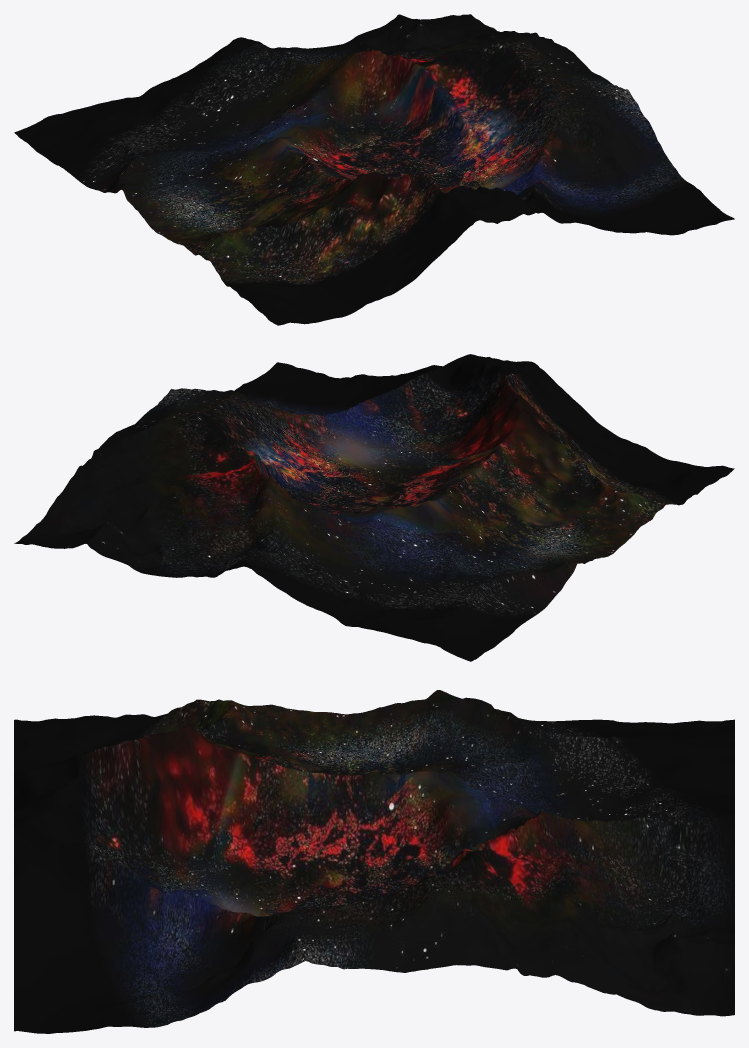
Rendered from ground.glb.
3 renders of one model, top to bottom at view 1: azimuth 30°, elevation 25°; view 2: azimuth 150°, elevation 25°; view 3: azimuth 270°, elevation 25°, orthographic. The views are drawn at different scales.
Visible parts, largest first — view 1: Object_0; view 2: Object_0; view 3: Object_0.
Boxes of the visible parts, <box> form: Object_0: <box>14,14,734,325</box>; Object_0: <box>14,354,734,661</box>; Object_0: <box>14,690,734,1033</box>.
Bounding box in the file's own units: 1000 × 177 × 1000.
1 material, 1 textured.
